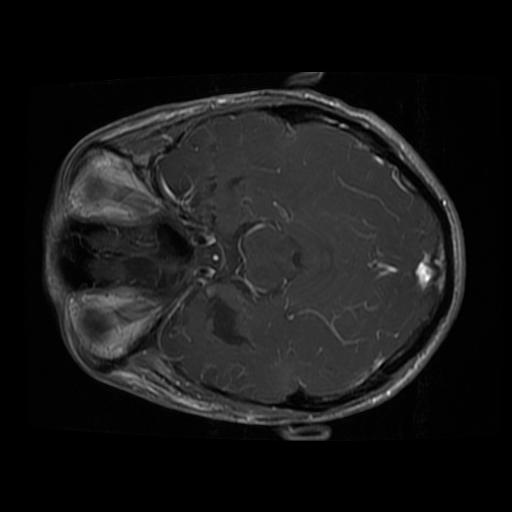glioma: (199, 281, 255, 352)
